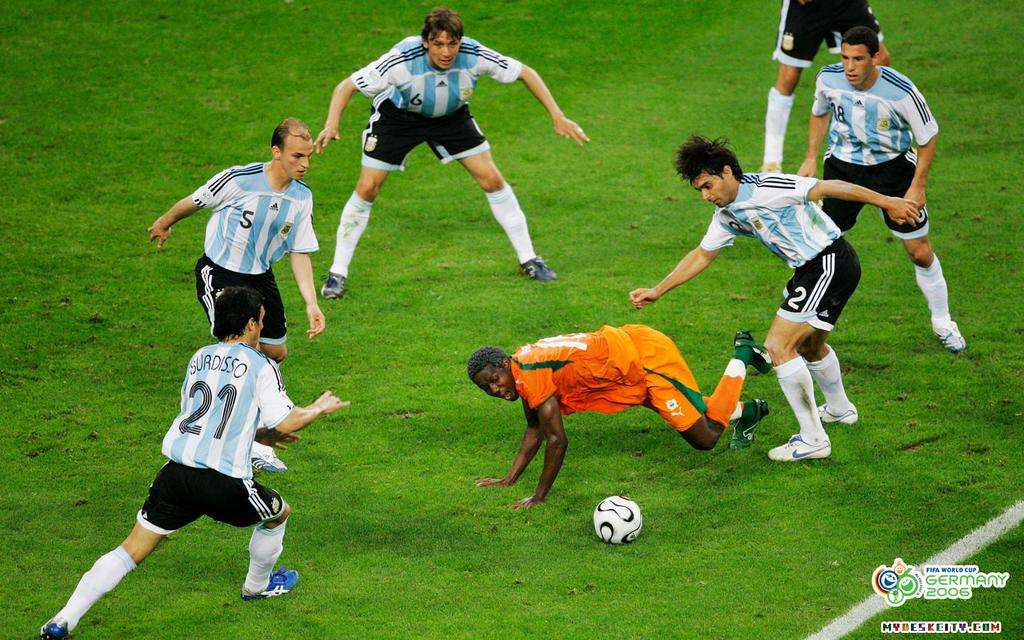football: (594, 495, 644, 545)
